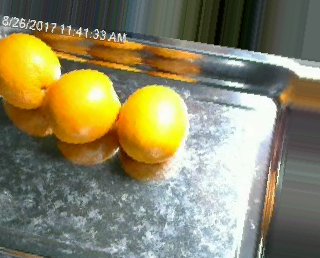Orange: (115, 84, 188, 164), (45, 68, 121, 144), (0, 31, 61, 109)
